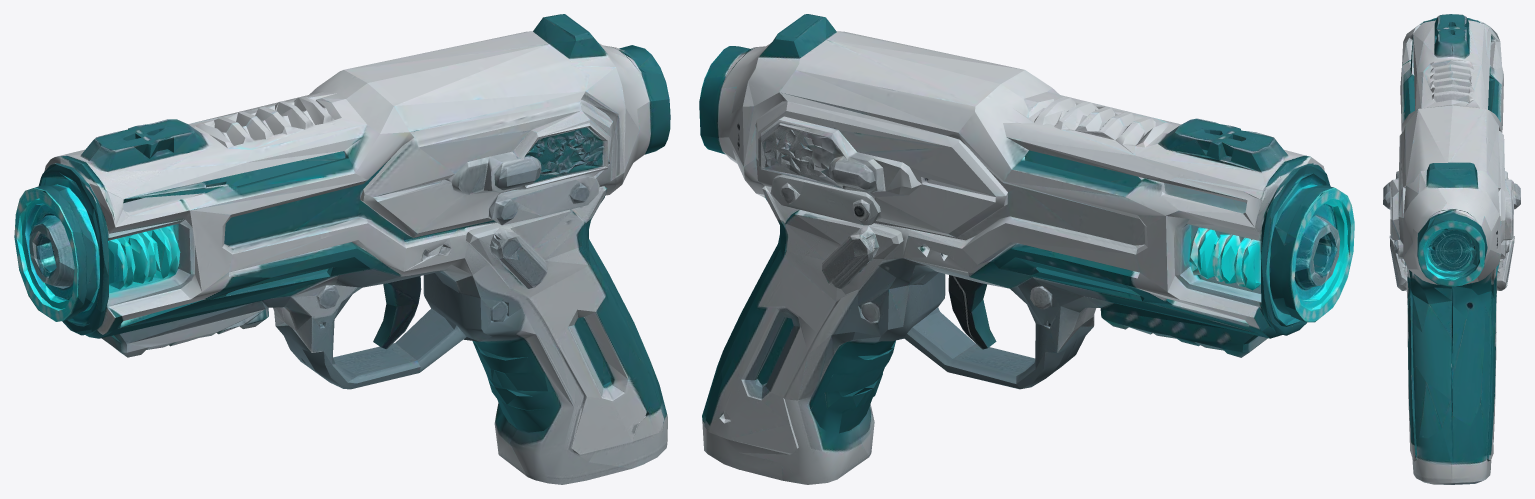
Rendered from volt_blaster.glb.
3 views of the same model, side by side, from view 1: azimuth 30°, elevation 25°; view 2: azimuth 150°, elevation 25°; view 3: azimuth 270°, elevation 25° (orthographic). The views are drawn at different scales.
Bounding box in the file's own units: 1.9 × 1.3 × 0.5454.
1 material, 1 textured.
